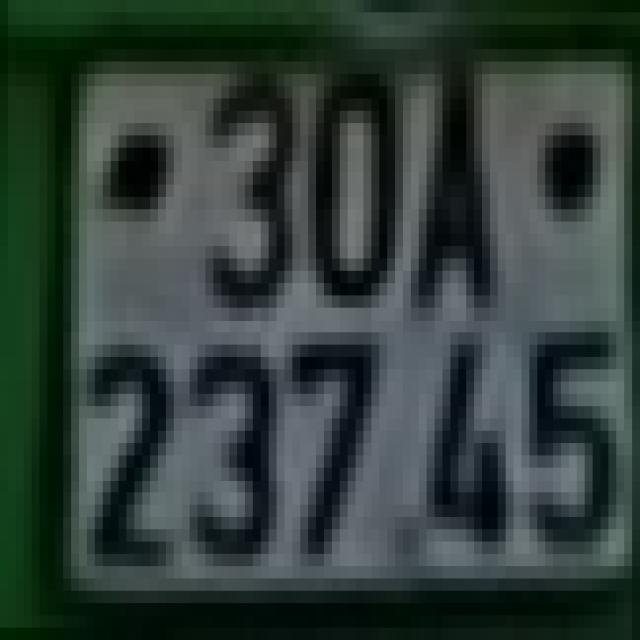0: (308, 56, 403, 302)
2: (87, 345, 174, 566)
3: (202, 61, 296, 308), (190, 338, 276, 560)
4: (430, 332, 510, 554)
5: (526, 326, 620, 548)
7: (292, 338, 380, 560)
A: (407, 68, 502, 314)
